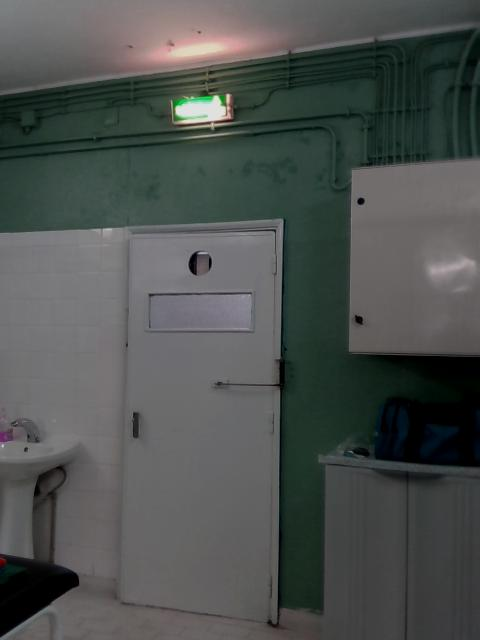closed_door: (115, 230, 280, 626)
